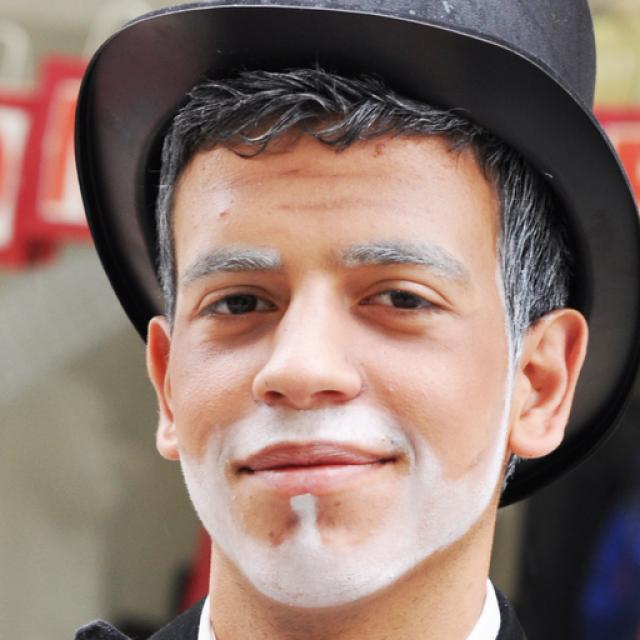Acne: (367, 141, 396, 163), (207, 202, 233, 224), (383, 381, 398, 400)
